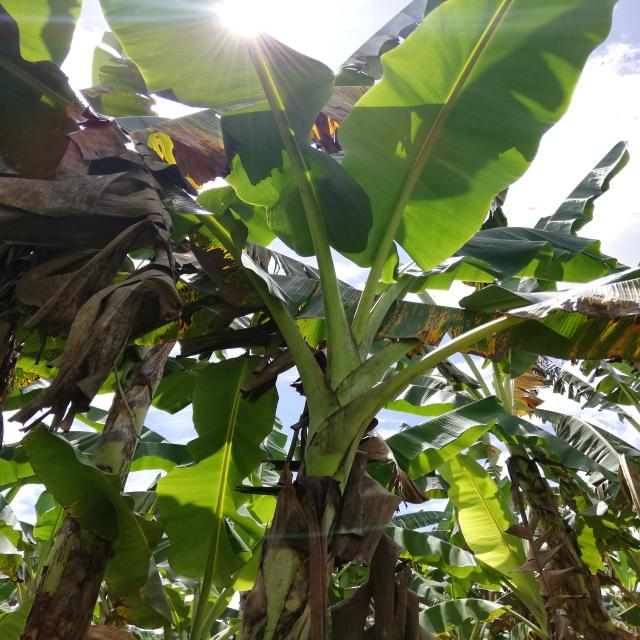Banana-plant: (234, 289, 436, 640), (12, 276, 198, 632)
